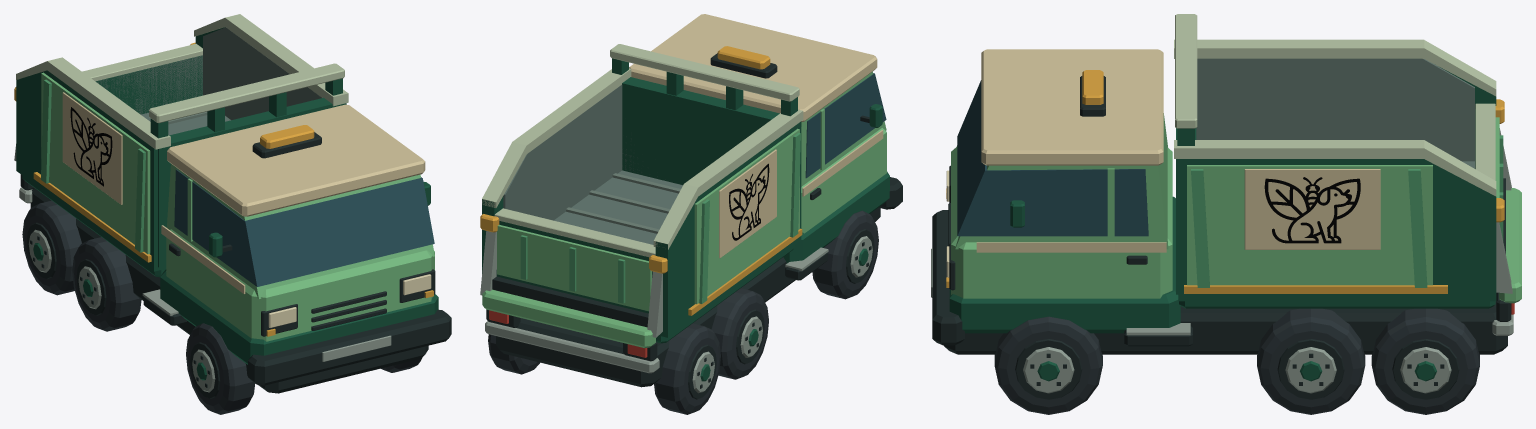
The model's file is collection-truck.glb.
3 views of the same model, side by side, from view 1: azimuth 30°, elevation 25°; view 2: azimuth 150°, elevation 25°; view 3: azimuth 270°, elevation 25° (orthographic). The views are drawn at different scales.
Visible parts, largest first — view 1: Body, Wheel-middle-left, Wheel-front-left, Wheel-rear-left, Brand plates; view 2: Body, Wheel-rear-left, Wheel-middle-left, Wheel-front-left, Brand plates, Wheel-rear-right; view 3: Body, Wheel-middle-right, Wheel-rear-right, Wheel-front-right, Brand plates.
Boxes of the visible parts, left/top/right/bottom form: Body: left=14, top=14, right=451, bottom=393; Wheel-middle-left: left=72, top=237, right=141, bottom=331; Wheel-front-left: left=186, top=323, right=255, bottom=414; Wheel-rear-left: left=22, top=200, right=81, bottom=295; Brand plates: left=70, top=107, right=112, bottom=186; Body: left=480, top=14, right=902, bottom=387; Wheel-rear-left: left=654, top=323, right=720, bottom=414; Wheel-middle-left: left=711, top=288, right=768, bottom=379; Wheel-front-left: left=812, top=210, right=878, bottom=299; Brand plates: left=729, top=163, right=769, bottom=240; Wheel-rear-right: left=488, top=334, right=539, bottom=374; Body: left=931, top=14, right=1521, bottom=354; Wheel-middle-right: left=1257, top=308, right=1365, bottom=414; Wheel-rear-right: left=1371, top=308, right=1479, bottom=414; Wheel-front-right: left=994, top=316, right=1102, bottom=414; Brand plates: left=1264, top=177, right=1360, bottom=243.
Size of the model in its own units: 1.77 by 1.99 by 3.6.
2 materials, 1 textured.
